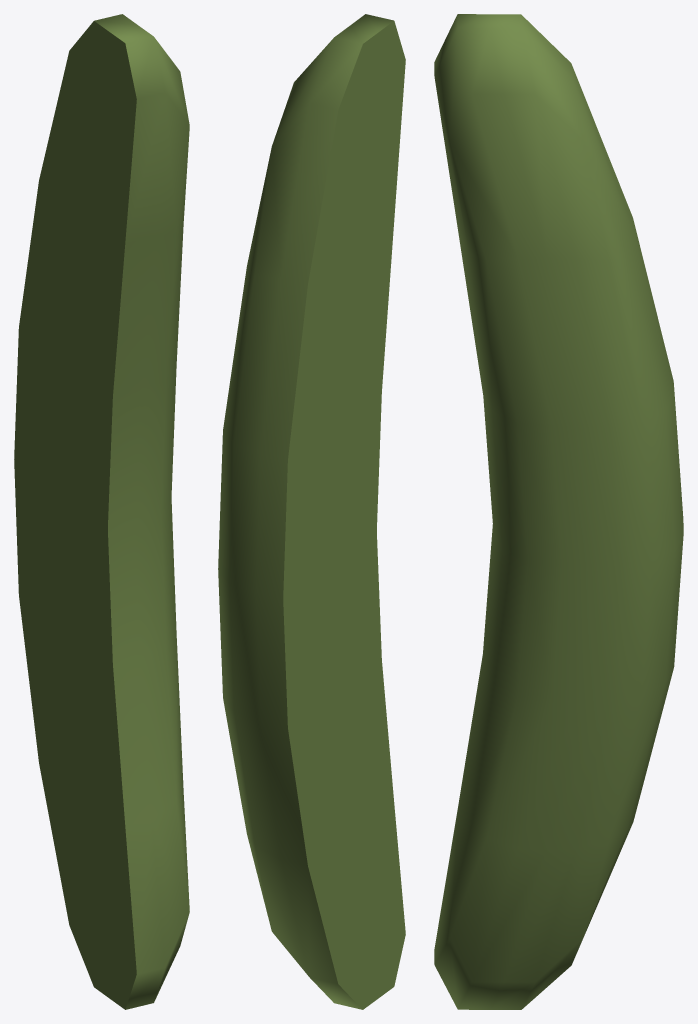
The model's file is Halfpickle.fbx.
3 renders of one model, left to right at view 1: azimuth 30°, elevation 25°; view 2: azimuth 150°, elevation 25°; view 3: azimuth 270°, elevation 25°, orthographic.
Parts seen in each view (by area): view 1: HaftPickle; view 2: HaftPickle; view 3: HaftPickle.
Boxes of the visible parts, left/top/right/bottom form: HaftPickle: left=14, top=14, right=189, bottom=1009; HaftPickle: left=218, top=14, right=405, bottom=1009; HaftPickle: left=434, top=14, right=683, bottom=1009.
Size of the model in its own units: 2.5 by 25.92 by 5.97.
